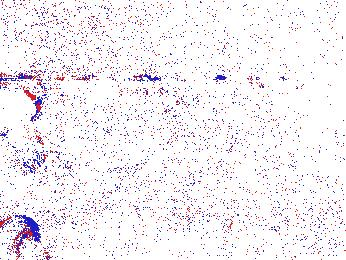flame jellyfish: (1, 83, 46, 174), (183, 193, 235, 244), (1, 216, 50, 260)
